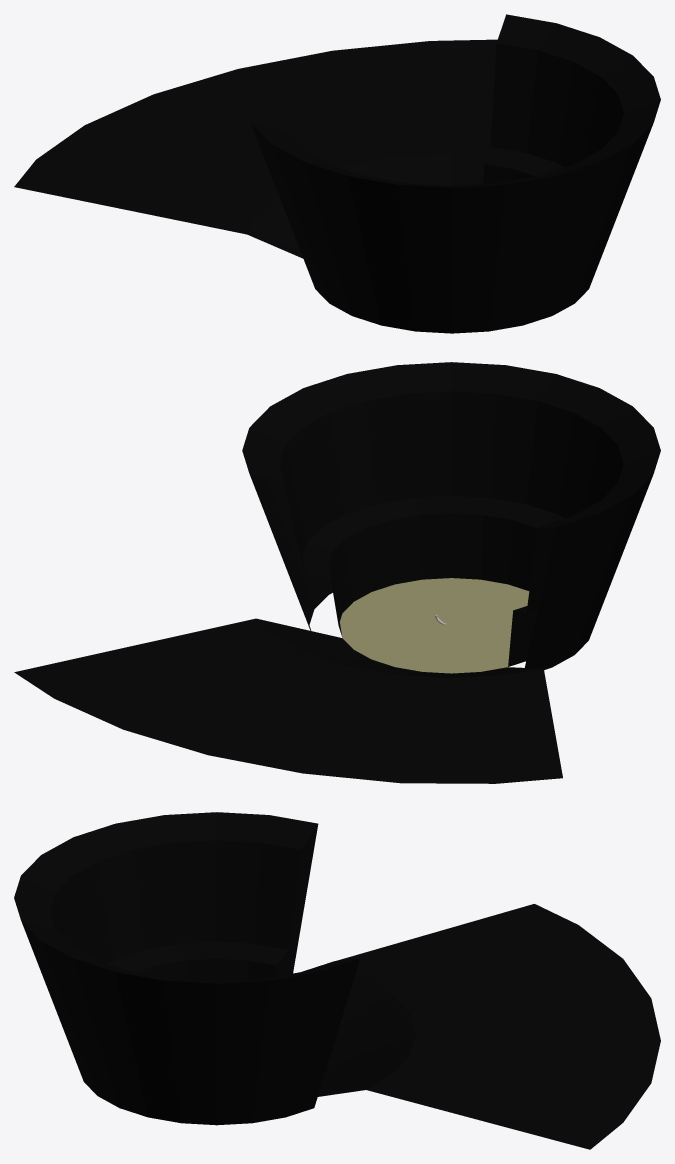
File: MiniStage1.fbx
The picture shows the model from 3 angles, top to bottom: view 1: azimuth 30°, elevation 25°; view 2: azimuth 150°, elevation 25°; view 3: azimuth 270°, elevation 25°; orthographic projection. The views are drawn at different scales.
Visible parts, largest first — view 1: pDisc2; view 2: pDisc2; view 3: pDisc2.
Boxes of the visible parts, bbox=[...] form: pDisc2: bbox=[14, 14, 660, 333]; pDisc2: bbox=[14, 362, 660, 783]; pDisc2: bbox=[14, 812, 660, 1149].
Size of the model in its own units: 7.63 by 2.46 by 8.47.
